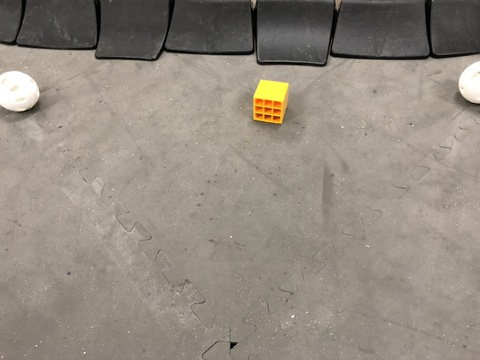ball: (1, 62, 46, 120), (454, 58, 480, 107)
block: (245, 74, 297, 130)
